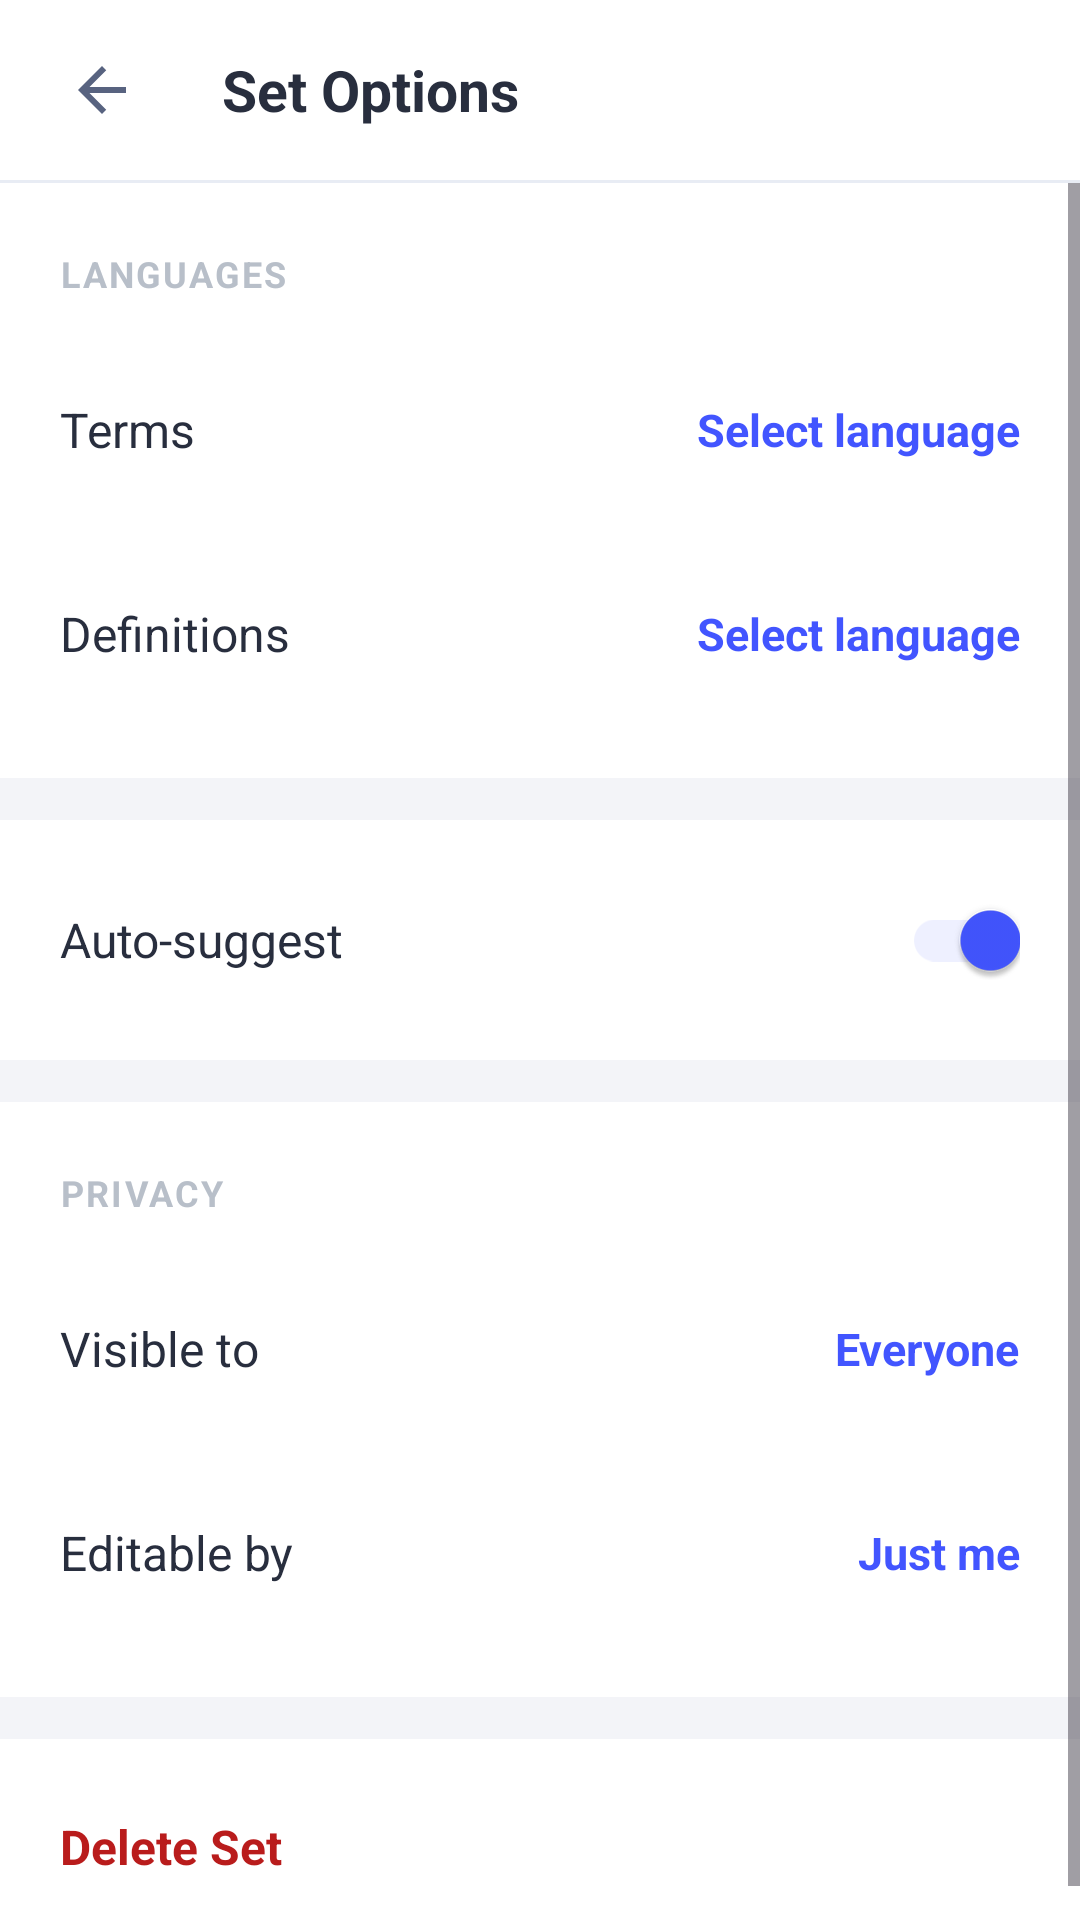

Named icons in this screenshot (1080×1920) and their bounding boxes, [x1,y1,x2,y2]:
Back: [78,66,126,114]
